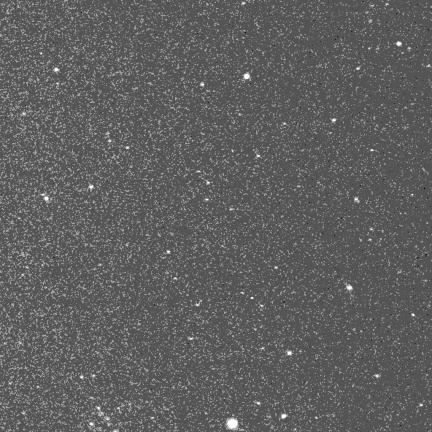blob: (227, 419, 237, 429), (244, 73, 250, 79), (354, 197, 359, 203), (347, 285, 352, 291), (200, 82, 205, 87), (89, 184, 94, 189), (44, 196, 49, 201), (287, 351, 292, 356), (281, 414, 287, 418), (397, 42, 402, 46), (80, 375, 84, 380), (411, 313, 416, 317), (167, 250, 171, 255), (54, 68, 59, 72), (374, 374, 380, 377), (332, 119, 336, 123), (126, 146, 129, 149), (357, 67, 360, 70), (419, 404, 423, 406)
